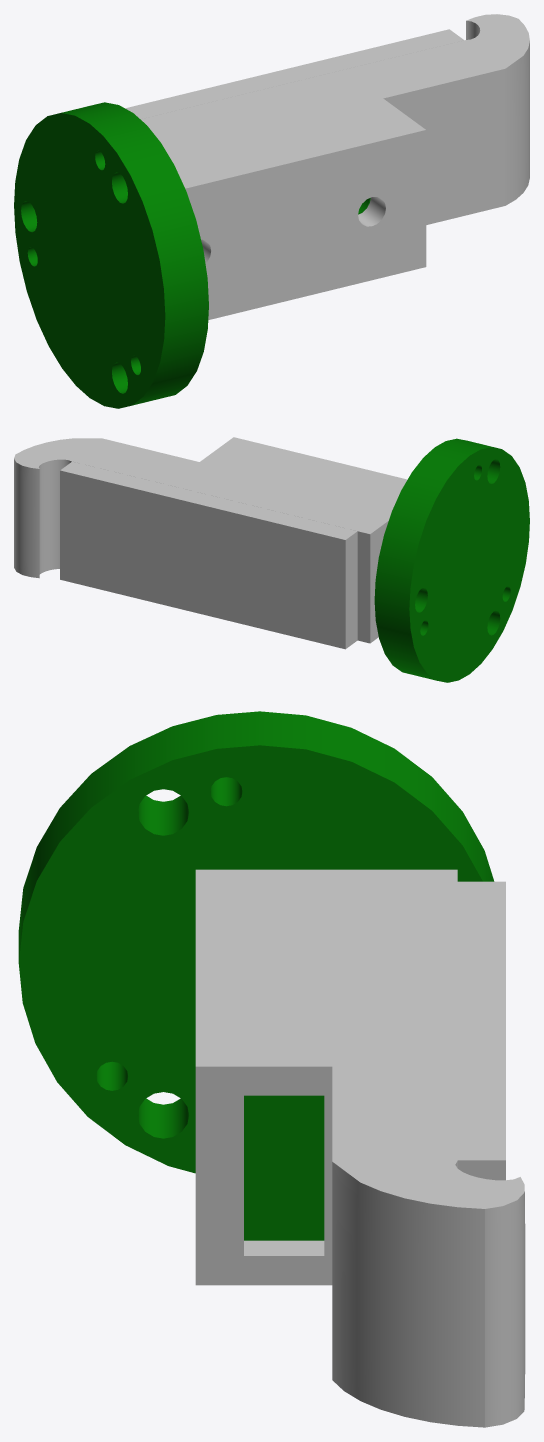
The model's file is MoveFingerR.obj.
The picture shows the model from 3 angles, top to bottom: view 1: azimuth 30°, elevation 25°; view 2: azimuth 150°, elevation 25°; view 3: azimuth 270°, elevation 25°; orthographic projection. The views are drawn at different scales.
Bounding box in the file's own units: 0.0572 × 0.03 × 0.0315.
